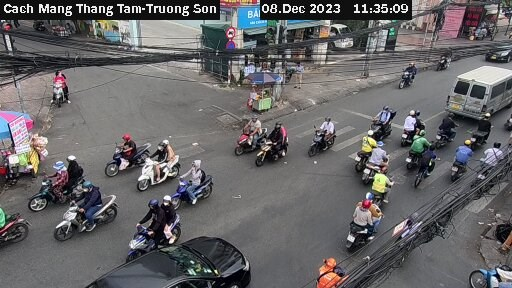car: (70, 235, 256, 288), (443, 63, 512, 117), (486, 38, 512, 65)
motorbike: (115, 195, 196, 249), (52, 190, 127, 235), (23, 162, 98, 203), (96, 131, 157, 170), (37, 70, 87, 116), (345, 190, 380, 254), (101, 133, 155, 174), (258, 123, 302, 173), (297, 105, 342, 150), (168, 164, 223, 199), (1, 194, 34, 250), (138, 143, 184, 183), (461, 253, 512, 288), (232, 115, 270, 155), (369, 176, 405, 213), (393, 58, 429, 92), (361, 108, 399, 140), (436, 142, 471, 175), (431, 118, 463, 150), (363, 153, 392, 184), (345, 137, 373, 166), (397, 112, 424, 139), (466, 119, 494, 145), (435, 49, 461, 74), (400, 134, 419, 161)
